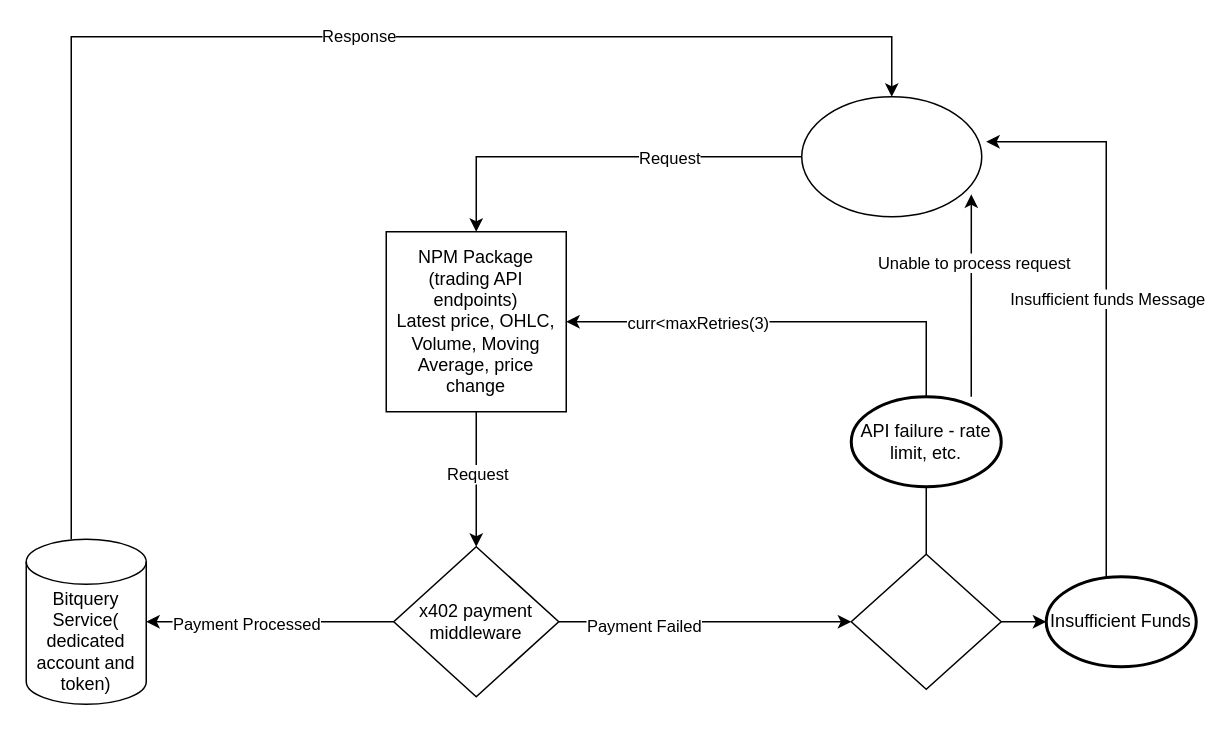
Some shapes in this 1230 by 731 pixel diagram are drawn without their labels. Here are the shapes that lost their labels. From the top down, the centre of each, then its label:
At [891,156]: "AI Agent Application".
At [925,621]: "Error Handler".
